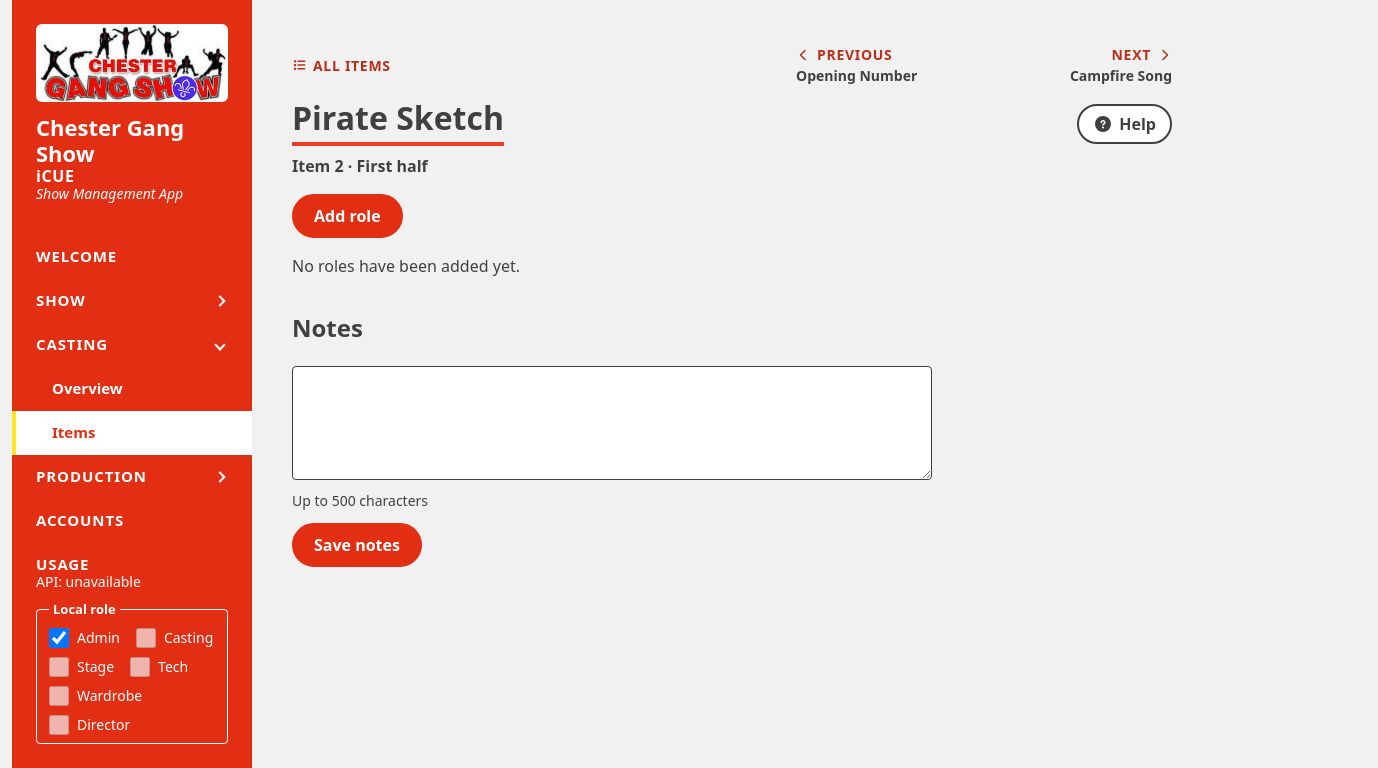
Test: Casting item page › opens the next item, with its own roles and links
Click the link "Next Campfire Song" at coordinates (1121, 65), box x1=1070 y1=45 x2=1172 y2=85
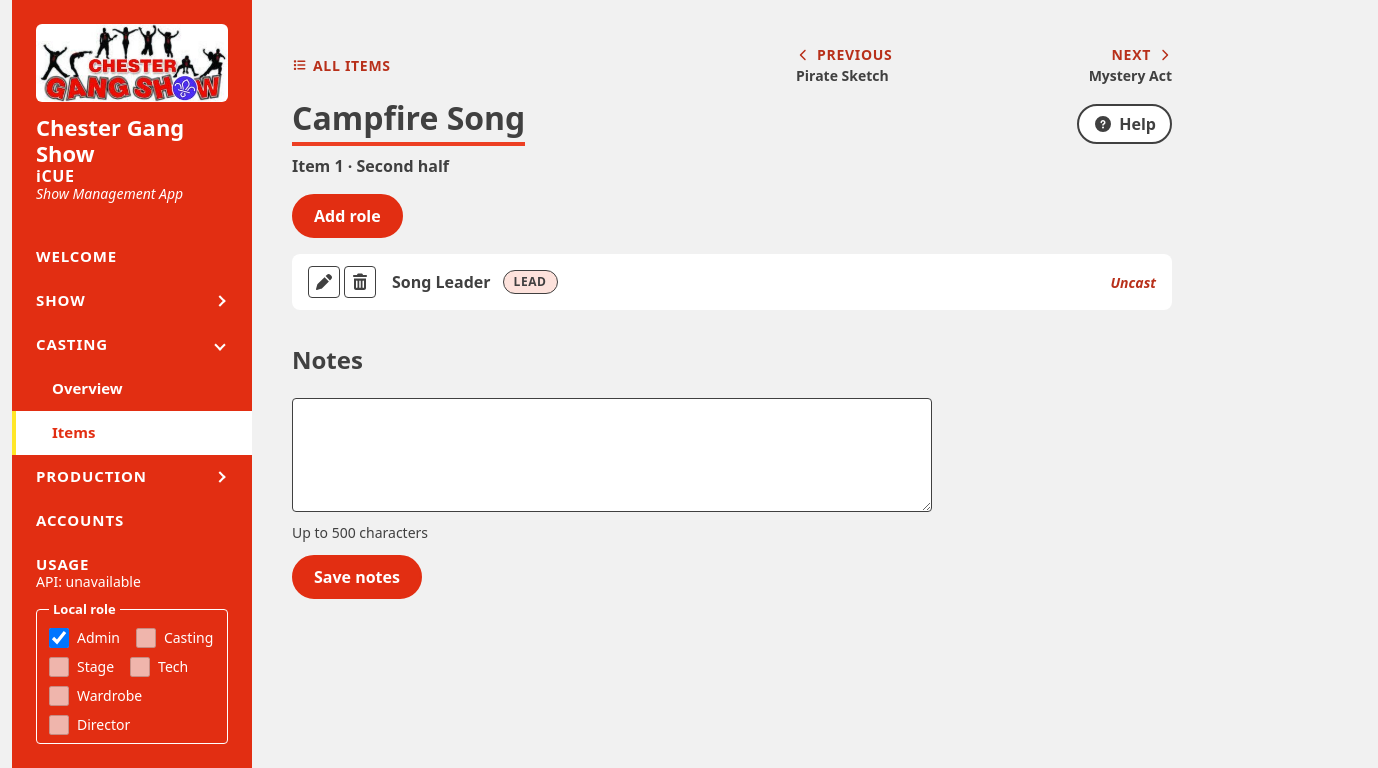
Expected: the heading "Campfire Song" is shown, x1=292 y1=94 x2=525 y2=146
Expected: the text "Song Leader" is shown, x1=392 y1=270 x2=490 y2=294
